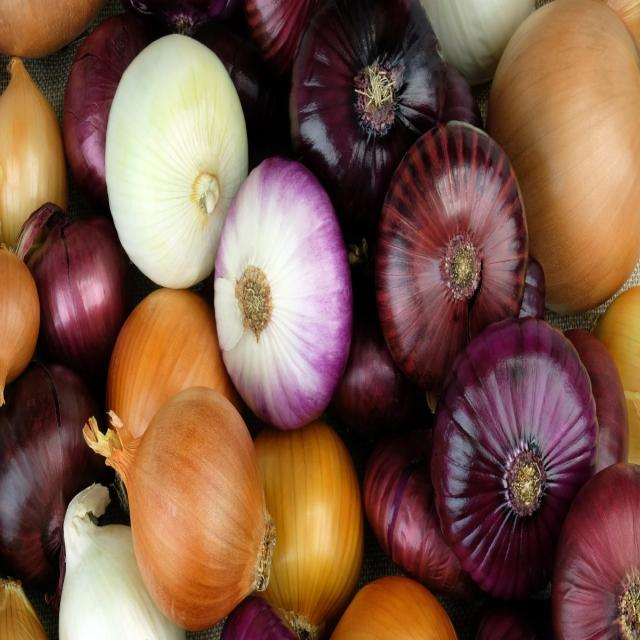Onion: (432, 319, 601, 600), (488, 0, 640, 312), (83, 386, 276, 630), (376, 121, 529, 392), (214, 156, 353, 429), (105, 33, 248, 287), (289, 1, 447, 223), (0, 363, 107, 610), (254, 420, 364, 639), (14, 201, 130, 384), (106, 289, 243, 437), (59, 484, 184, 640), (364, 430, 477, 597), (62, 12, 150, 208), (553, 463, 640, 640), (0, 55, 68, 246), (422, 0, 536, 84), (331, 576, 457, 640), (0, 242, 39, 405), (220, 596, 298, 640)
